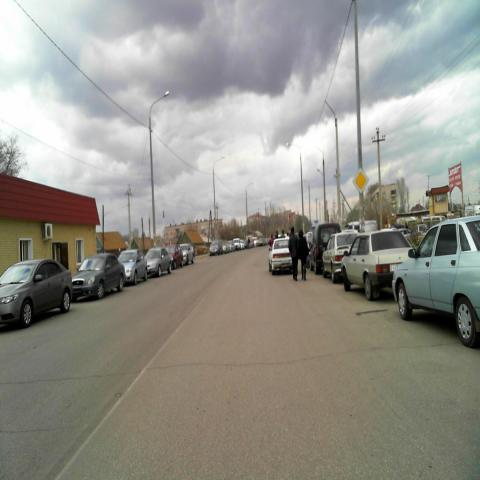2_1: (353, 168, 369, 194)
